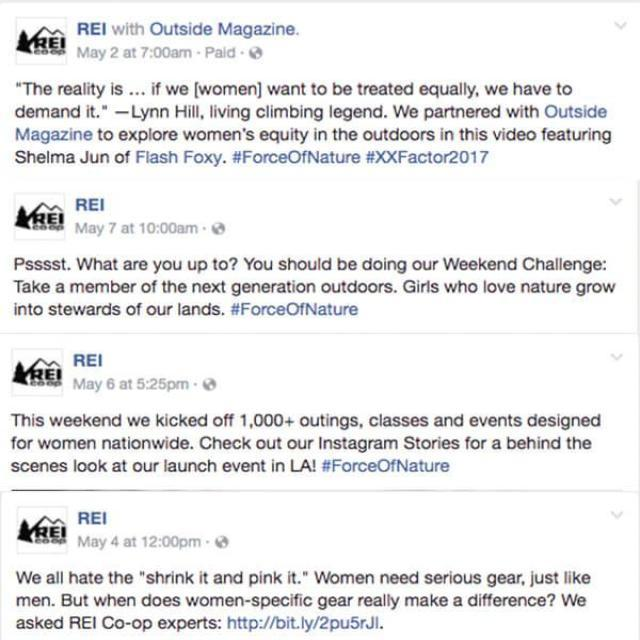0: (110, 536, 120, 548)
1: (350, 616, 360, 628), (137, 378, 145, 390), (158, 378, 166, 390)
2: (107, 377, 115, 390)
3: (478, 150, 488, 164), (108, 222, 117, 234), (140, 46, 148, 58)
A: (300, 458, 312, 472), (54, 282, 66, 294), (407, 152, 418, 164), (167, 462, 178, 474), (372, 596, 383, 608), (452, 595, 463, 607), (506, 573, 516, 586), (418, 596, 429, 607), (15, 619, 26, 630), (253, 24, 263, 36), (378, 84, 388, 96), (434, 107, 444, 119), (149, 152, 159, 164), (276, 282, 286, 294), (530, 282, 540, 294), (181, 304, 191, 316), (316, 304, 326, 316), (348, 438, 358, 450), (373, 438, 383, 450), (492, 438, 502, 450), (338, 596, 348, 608), (72, 84, 82, 95), (280, 84, 290, 95), (449, 85, 459, 96), (66, 153, 76, 164), (122, 260, 133, 270), (545, 260, 555, 271), (434, 417, 444, 428), (112, 438, 122, 449), (214, 573, 224, 584), (523, 85, 533, 96), (320, 153, 330, 164), (51, 107, 60, 119), (86, 304, 95, 316), (233, 25, 243, 35), (122, 48, 132, 58), (30, 130, 40, 140), (50, 130, 60, 140), (22, 282, 32, 292), (408, 462, 418, 472), (90, 538, 100, 548), (78, 574, 88, 584), (111, 461, 120, 472), (383, 416, 391, 428), (90, 48, 99, 58), (556, 130, 565, 140), (102, 260, 111, 270), (46, 574, 55, 584), (171, 49, 180, 58), (214, 49, 223, 58), (87, 224, 96, 233), (177, 224, 186, 233), (86, 380, 94, 390), (118, 380, 126, 390), (124, 537, 132, 547), (121, 224, 129, 233)
B: (337, 256, 347, 270), (276, 616, 286, 630), (290, 105, 300, 118), (110, 279, 120, 292), (62, 593, 71, 607), (507, 436, 517, 448), (333, 81, 341, 95)
C: (522, 256, 536, 270), (200, 434, 212, 450), (102, 616, 115, 630), (268, 152, 278, 164), (418, 152, 428, 164), (232, 438, 242, 450), (358, 460, 368, 472), (256, 108, 266, 119), (369, 416, 379, 427), (20, 461, 30, 472), (266, 305, 276, 315), (197, 462, 207, 472), (280, 596, 290, 606), (304, 596, 314, 606), (528, 596, 538, 606), (170, 416, 178, 427), (34, 48, 42, 55), (30, 380, 37, 387), (34, 225, 40, 231), (34, 538, 40, 544)
D: (14, 104, 26, 119), (192, 22, 203, 36), (527, 413, 538, 427), (404, 81, 414, 96), (198, 412, 208, 427), (454, 412, 464, 427), (409, 570, 419, 585), (590, 413, 601, 426), (372, 104, 382, 118), (491, 104, 501, 118), (588, 104, 598, 118), (506, 127, 516, 141), (322, 257, 332, 271), (362, 258, 372, 272), (508, 256, 518, 270), (348, 279, 358, 293), (102, 302, 112, 316), (202, 302, 212, 316), (233, 570, 243, 584), (141, 593, 151, 607), (468, 593, 478, 607), (70, 105, 80, 118), (54, 615, 63, 629), (390, 128, 400, 140), (170, 436, 180, 448), (112, 414, 121, 427), (551, 436, 560, 449), (227, 46, 235, 57)
E: (84, 282, 96, 294), (122, 573, 134, 585), (86, 353, 96, 367), (92, 512, 102, 526), (82, 616, 92, 630), (177, 282, 188, 294), (91, 22, 101, 35), (88, 198, 98, 211), (48, 212, 58, 225), (40, 282, 51, 293), (120, 282, 131, 293), (285, 24, 295, 36), (64, 84, 74, 96), (369, 84, 379, 96), (394, 84, 404, 96), (419, 84, 429, 96), (498, 84, 508, 96), (542, 84, 552, 96), (26, 108, 36, 120), (333, 106, 343, 118), (466, 107, 476, 119), (598, 107, 608, 119), (118, 129, 128, 141), (169, 130, 179, 142), (222, 129, 232, 141), (259, 130, 269, 142), (348, 130, 358, 142), (36, 152, 46, 164), (278, 152, 288, 164), (486, 260, 496, 272), (202, 282, 212, 294), (261, 282, 271, 294), (562, 282, 572, 294), (64, 304, 74, 316), (64, 416, 74, 428), (73, 416, 83, 428), (140, 416, 150, 428), (188, 416, 198, 428), (581, 416, 591, 428), (180, 438, 190, 450), (222, 438, 232, 450), (441, 438, 451, 450), (516, 438, 526, 450), (582, 438, 592, 450), (390, 572, 400, 584), (400, 573, 410, 585), (433, 573, 443, 585), (497, 572, 507, 584), (581, 573, 591, 585), (162, 596, 172, 608), (328, 595, 338, 607), (440, 594, 450, 606), (44, 618, 54, 630), (157, 618, 167, 630), (45, 368, 55, 380), (50, 526, 60, 538), (517, 129, 526, 142), (180, 85, 190, 96), (238, 85, 248, 96), (342, 85, 352, 96), (353, 108, 363, 119), (481, 108, 491, 119), (83, 130, 94, 140), (546, 130, 557, 140), (350, 153, 360, 164), (138, 260, 148, 271), (348, 260, 358, 271), (459, 260, 469, 271), (468, 260, 478, 271), (242, 282, 252, 293), (276, 305, 286, 316), (349, 305, 359, 316), (410, 416, 420, 427), (469, 417, 479, 428), (488, 416, 498, 427), (538, 416, 548, 427), (76, 438, 86, 449), (30, 461, 40, 472), (368, 461, 378, 472), (440, 462, 450, 473), (31, 596, 42, 606), (116, 596, 126, 607), (537, 596, 547, 607), (187, 618, 197, 629), (50, 36, 59, 48), (507, 282, 516, 294), (92, 416, 101, 428), (203, 25, 213, 35), (409, 108, 419, 118), (562, 260, 572, 270), (592, 260, 602, 270), (222, 462, 232, 472), (241, 462, 251, 472), (32, 574, 42, 584), (94, 574, 104, 584), (356, 574, 366, 584), (224, 596, 234, 606), (270, 596, 280, 606), (363, 596, 373, 606), (492, 596, 502, 606), (508, 596, 518, 606), (578, 596, 588, 606), (50, 461, 59, 472), (44, 84, 52, 96)
F: (184, 150, 194, 164), (397, 150, 407, 164), (136, 150, 146, 163), (242, 150, 252, 163), (241, 302, 251, 315), (333, 459, 341, 473), (541, 126, 547, 140), (124, 150, 130, 164), (152, 278, 158, 292), (300, 301, 306, 315), (464, 435, 470, 449), (390, 458, 396, 472), (294, 593, 300, 607), (156, 82, 162, 95), (302, 150, 308, 163), (136, 302, 142, 314), (228, 414, 234, 426), (482, 594, 488, 606), (12, 435, 16, 450), (487, 594, 492, 606), (224, 414, 228, 426)
G: (402, 279, 416, 293), (485, 573, 497, 588), (242, 24, 253, 40), (601, 129, 612, 145), (230, 282, 240, 298), (357, 438, 368, 452), (314, 107, 324, 122), (342, 107, 352, 122), (397, 260, 407, 275), (561, 416, 571, 431), (40, 130, 50, 144), (582, 260, 592, 274), (576, 282, 586, 296), (340, 416, 350, 430), (317, 596, 327, 610), (240, 108, 250, 121)
H: (21, 412, 31, 427), (176, 105, 187, 118), (134, 22, 144, 36), (513, 81, 523, 95), (168, 279, 178, 293), (526, 434, 536, 448), (572, 435, 582, 449), (68, 570, 78, 584), (114, 570, 124, 584), (108, 592, 118, 606), (168, 150, 178, 163), (212, 436, 222, 449), (530, 104, 539, 118), (208, 458, 217, 472), (338, 128, 348, 140), (26, 150, 36, 162), (288, 258, 298, 270), (536, 258, 545, 271), (156, 570, 164, 584), (228, 614, 236, 628), (34, 82, 42, 95), (466, 128, 474, 140), (94, 258, 102, 270), (459, 280, 467, 292)
I: (474, 126, 480, 140), (126, 435, 132, 449), (170, 570, 176, 584), (566, 570, 572, 584), (270, 458, 276, 471), (164, 412, 169, 427), (188, 22, 193, 36), (313, 127, 318, 141), (439, 126, 444, 140), (325, 413, 330, 427), (165, 435, 170, 449), (448, 570, 453, 584), (13, 302, 18, 315), (318, 434, 322, 450), (60, 36, 65, 48), (437, 436, 442, 448), (285, 616, 290, 628), (86, 104, 90, 118), (188, 104, 192, 118), (270, 104, 274, 118), (520, 104, 524, 118), (102, 22, 106, 35), (588, 127, 592, 140), (100, 198, 104, 211), (110, 82, 114, 94), (62, 526, 66, 538), (70, 126, 73, 140), (290, 126, 293, 140), (502, 126, 505, 140), (384, 256, 387, 270), (557, 412, 560, 426), (537, 436, 540, 450), (288, 570, 291, 584), (291, 592, 294, 606), (300, 592, 303, 606), (99, 353, 102, 367), (125, 22, 128, 35), (87, 82, 90, 95), (214, 105, 217, 118), (292, 280, 295, 293), (417, 279, 420, 292), (479, 593, 482, 606), (223, 46, 226, 57), (59, 213, 62, 224), (32, 412, 34, 427), (58, 369, 61, 379), (272, 22, 274, 36), (152, 81, 154, 95), (228, 104, 230, 118), (300, 104, 302, 118), (584, 104, 586, 118), (260, 570, 262, 584), (104, 511, 106, 525), (94, 616, 96, 630), (200, 571, 202, 584)
J: (80, 150, 90, 164), (366, 616, 374, 630), (529, 570, 534, 588)
K: (82, 412, 92, 428), (242, 435, 252, 450), (185, 570, 194, 585), (99, 458, 108, 472), (180, 412, 188, 427), (32, 280, 41, 293), (274, 570, 282, 584), (573, 570, 581, 584), (430, 593, 438, 607), (35, 616, 44, 628), (479, 257, 487, 270), (156, 413, 164, 426)
L: (290, 458, 302, 472), (132, 104, 142, 118), (482, 280, 488, 292), (301, 616, 306, 628), (56, 570, 60, 584), (46, 150, 50, 163), (148, 128, 152, 140), (564, 572, 568, 584), (83, 82, 86, 96), (192, 104, 195, 118), (196, 104, 199, 118), (463, 82, 466, 95), (266, 105, 269, 118), (329, 104, 332, 117), (146, 150, 149, 163), (165, 459, 168, 472), (387, 594, 390, 606), (556, 256, 558, 272), (74, 458, 76, 472), (61, 570, 63, 584), (460, 82, 462, 95), (380, 413, 382, 426), (376, 616, 378, 629), (210, 106, 212, 118), (318, 258, 320, 270), (560, 258, 562, 270), (428, 280, 430, 292), (178, 302, 180, 314), (384, 594, 386, 606)
M: (15, 126, 30, 140), (218, 22, 232, 36), (50, 152, 65, 164), (76, 46, 90, 58), (223, 84, 237, 96), (16, 594, 30, 606), (72, 378, 86, 390), (207, 130, 222, 141), (62, 438, 77, 449), (383, 438, 398, 449), (69, 282, 85, 292), (36, 107, 50, 118), (274, 108, 288, 119), (339, 574, 354, 584), (75, 222, 88, 233), (178, 48, 192, 58), (210, 596, 224, 606), (406, 596, 420, 606), (95, 282, 108, 292), (78, 536, 89, 547), (186, 224, 198, 234), (176, 380, 188, 390), (188, 538, 201, 547)
N: (396, 458, 408, 472), (306, 301, 317, 316), (308, 150, 320, 163), (444, 130, 454, 142), (190, 304, 200, 316), (444, 416, 454, 428), (323, 438, 333, 450), (275, 25, 285, 36), (290, 84, 300, 95), (149, 108, 159, 119), (158, 108, 168, 119), (304, 108, 314, 119), (592, 130, 602, 141), (496, 260, 506, 271), (520, 282, 530, 293), (102, 416, 112, 427), (86, 438, 96, 449), (40, 461, 50, 472), (250, 461, 260, 472), (275, 461, 285, 472), (262, 573, 272, 584), (380, 573, 390, 584), (573, 260, 582, 272), (223, 572, 232, 584), (248, 85, 258, 95), (230, 108, 240, 118), (456, 108, 466, 118), (72, 130, 82, 140), (317, 130, 327, 140), (192, 282, 202, 292), (306, 282, 316, 292), (18, 305, 28, 315), (330, 416, 340, 426), (497, 416, 507, 426), (141, 439, 151, 449), (540, 439, 550, 449), (174, 574, 184, 584), (364, 574, 374, 584), (126, 596, 136, 606), (234, 596, 244, 606), (518, 596, 528, 606), (387, 260, 397, 270), (60, 108, 69, 119), (102, 438, 111, 449), (41, 595, 50, 606), (363, 108, 372, 118), (232, 130, 241, 140), (100, 153, 109, 163), (571, 416, 580, 426), (188, 462, 197, 472), (252, 282, 260, 292)
O: (150, 22, 164, 36), (544, 104, 558, 118), (288, 150, 301, 164), (287, 302, 299, 316), (378, 458, 390, 472), (76, 461, 87, 473), (286, 438, 297, 449), (316, 84, 326, 96), (104, 130, 114, 142), (252, 152, 262, 164), (433, 152, 443, 164), (368, 282, 378, 294), (298, 416, 310, 426), (152, 595, 162, 607), (200, 594, 210, 606), (400, 130, 410, 142), (562, 85, 572, 96), (363, 130, 373, 141), (140, 282, 150, 293), (321, 282, 331, 293), (357, 282, 367, 293), (488, 282, 498, 293), (256, 438, 266, 449), (420, 439, 430, 450), (88, 461, 98, 472), (132, 462, 143, 472), (342, 461, 352, 472), (452, 573, 462, 584), (410, 130, 420, 141), (472, 438, 482, 449), (213, 84, 222, 96), (197, 130, 206, 142), (115, 152, 124, 164), (593, 282, 602, 294), (126, 304, 135, 316), (51, 438, 60, 450), (526, 130, 536, 140), (218, 261, 228, 271), (253, 260, 263, 270), (298, 260, 308, 270), (373, 260, 383, 270), (296, 282, 306, 292), (468, 282, 478, 292), (34, 305, 44, 315), (146, 305, 156, 315), (250, 305, 260, 315), (212, 416, 222, 426), (16, 439, 26, 449), (131, 439, 141, 449), (132, 618, 142, 628), (152, 130, 162, 140), (115, 618, 124, 629), (163, 260, 172, 270), (412, 261, 422, 270), (194, 154, 203, 164), (331, 574, 338, 584), (50, 49, 59, 55), (42, 538, 51, 544), (41, 49, 49, 55), (40, 225, 47, 231), (49, 225, 56, 231), (47, 381, 54, 387), (51, 538, 58, 544), (37, 381, 44, 386)
P: (142, 618, 152, 634), (249, 572, 258, 588), (15, 258, 26, 271), (330, 619, 340, 633), (138, 130, 148, 144), (197, 260, 207, 274), (260, 596, 270, 610), (424, 108, 434, 121), (178, 618, 186, 634), (204, 46, 214, 58), (180, 538, 188, 551), (250, 619, 258, 632), (167, 380, 175, 392), (59, 49, 66, 58), (55, 381, 62, 389), (60, 539, 66, 547), (56, 226, 63, 232)
Q: (429, 84, 439, 100), (270, 130, 280, 144)
R: (32, 37, 48, 49), (32, 212, 46, 225), (74, 353, 86, 367), (69, 616, 81, 629), (78, 22, 89, 36), (78, 511, 89, 525), (31, 368, 44, 379), (76, 198, 86, 211), (35, 526, 48, 536), (94, 304, 102, 316), (166, 304, 173, 316), (270, 282, 278, 292), (342, 306, 350, 316), (164, 574, 172, 584), (346, 596, 354, 606), (431, 438, 438, 449), (556, 282, 562, 294), (444, 108, 451, 118), (475, 108, 482, 118), (420, 130, 427, 140), (444, 153, 451, 163), (132, 260, 139, 270), (130, 282, 137, 292), (378, 282, 385, 292), (261, 305, 268, 315), (27, 439, 34, 449), (481, 439, 488, 449), (152, 462, 159, 472), (434, 462, 441, 472), (443, 574, 450, 584), (368, 438, 374, 449), (344, 154, 352, 162), (308, 439, 315, 448), (58, 85, 64, 95), (363, 85, 369, 95), (582, 130, 588, 140), (421, 283, 427, 293), (586, 282, 592, 292), (516, 574, 522, 584), (358, 596, 364, 606), (360, 618, 366, 628), (196, 620, 203, 628), (352, 462, 358, 471), (263, 152, 268, 162), (433, 260, 438, 270), (503, 596, 508, 606), (164, 130, 168, 140)
S: (404, 435, 416, 450), (15, 150, 26, 164), (35, 416, 45, 428), (349, 416, 359, 428), (401, 415, 411, 427), (332, 438, 342, 450), (25, 618, 35, 630), (208, 618, 218, 630), (472, 573, 482, 585), (548, 415, 557, 428), (114, 85, 124, 96), (24, 260, 34, 271), (430, 282, 440, 293), (451, 438, 461, 449), (179, 24, 188, 36), (51, 260, 60, 272), (49, 304, 58, 316), (172, 594, 181, 606), (112, 304, 121, 316), (245, 130, 255, 140), (420, 416, 430, 426), (513, 416, 523, 426), (58, 462, 68, 472), (424, 574, 434, 584), (158, 154, 168, 164), (34, 260, 43, 271), (11, 461, 20, 472), (393, 415, 401, 427), (545, 572, 553, 584), (574, 108, 583, 118), (43, 260, 52, 270), (278, 260, 287, 270), (212, 305, 221, 315), (146, 574, 155, 584), (427, 130, 435, 141), (480, 130, 488, 141), (385, 282, 393, 293), (252, 596, 260, 606)
T: (13, 279, 24, 293), (10, 414, 22, 426), (22, 82, 32, 95), (172, 22, 180, 36), (300, 81, 308, 95), (458, 128, 466, 141), (128, 22, 135, 36), (242, 616, 249, 630), (382, 128, 390, 140), (340, 280, 348, 292), (568, 105, 575, 118), (57, 303, 64, 316), (121, 436, 128, 449), (342, 436, 349, 449), (556, 82, 562, 96), (293, 128, 300, 140), (565, 128, 572, 140), (329, 152, 336, 164), (112, 257, 118, 271), (212, 259, 219, 271), (161, 280, 168, 292), (220, 280, 227, 292), (326, 304, 333, 316), (507, 414, 514, 426), (276, 437, 283, 449), (565, 437, 572, 449), (418, 460, 425, 472), (88, 572, 95, 584), (291, 570, 297, 584), (82, 594, 89, 606), (290, 616, 296, 630), (130, 536, 138, 546), (90, 83, 96, 96), (311, 82, 317, 95), (332, 128, 338, 141), (60, 257, 66, 270), (120, 459, 126, 472), (108, 571, 114, 584), (131, 47, 138, 58), (90, 106, 96, 118), (524, 106, 530, 118), (98, 128, 104, 140), (286, 282, 292, 294), (540, 280, 546, 292), (28, 302, 34, 314), (127, 378, 133, 390), (320, 414, 326, 426), (260, 460, 266, 472), (554, 572, 560, 584), (128, 224, 135, 234), (237, 616, 242, 630), (358, 82, 363, 95), (388, 83, 393, 96), (451, 106, 456, 118), (428, 151, 433, 163), (203, 617, 208, 628), (416, 436, 420, 449), (204, 572, 208, 584)
U: (90, 152, 100, 164), (264, 260, 274, 272), (440, 84, 450, 95), (558, 107, 568, 118), (172, 260, 182, 271), (178, 461, 188, 472), (72, 595, 82, 606), (340, 619, 350, 630), (157, 304, 166, 316), (280, 130, 290, 140), (572, 130, 582, 140), (187, 260, 197, 270), (308, 261, 318, 271), (331, 282, 341, 292), (333, 305, 343, 315), (310, 416, 320, 426), (266, 438, 276, 448), (142, 462, 152, 472), (462, 574, 472, 584), (534, 574, 544, 584), (298, 438, 307, 449), (164, 24, 172, 36), (337, 152, 345, 164), (547, 283, 556, 293), (423, 260, 431, 271), (374, 130, 382, 140), (426, 462, 434, 472)
V: (532, 84, 542, 96), (492, 130, 502, 142), (497, 282, 507, 294), (218, 108, 228, 119), (478, 416, 488, 426), (232, 462, 242, 472)
W: (560, 592, 578, 608), (15, 570, 33, 585), (314, 570, 331, 584), (393, 105, 410, 118), (76, 258, 94, 270), (442, 258, 460, 270), (184, 596, 200, 608), (484, 84, 499, 96), (37, 438, 52, 450), (126, 417, 142, 428), (166, 84, 180, 96), (198, 84, 212, 96), (266, 85, 282, 95), (48, 416, 64, 426), (506, 108, 520, 119), (184, 130, 198, 141), (151, 439, 166, 449), (444, 282, 457, 293), (602, 282, 616, 292), (72, 306, 86, 316), (94, 596, 108, 606), (112, 25, 125, 35)
X: (386, 150, 398, 165), (376, 150, 386, 165), (128, 130, 138, 141), (203, 153, 213, 164), (168, 618, 176, 630), (212, 282, 220, 293)
Y: (140, 107, 150, 122), (213, 152, 223, 167), (305, 618, 314, 634), (152, 260, 162, 274), (390, 596, 400, 610), (243, 258, 254, 270), (96, 85, 106, 98), (299, 131, 309, 144), (98, 48, 107, 62), (96, 224, 105, 236), (94, 380, 103, 392), (99, 538, 108, 550), (468, 85, 476, 98)
Z: (262, 24, 272, 36), (60, 129, 68, 141)
